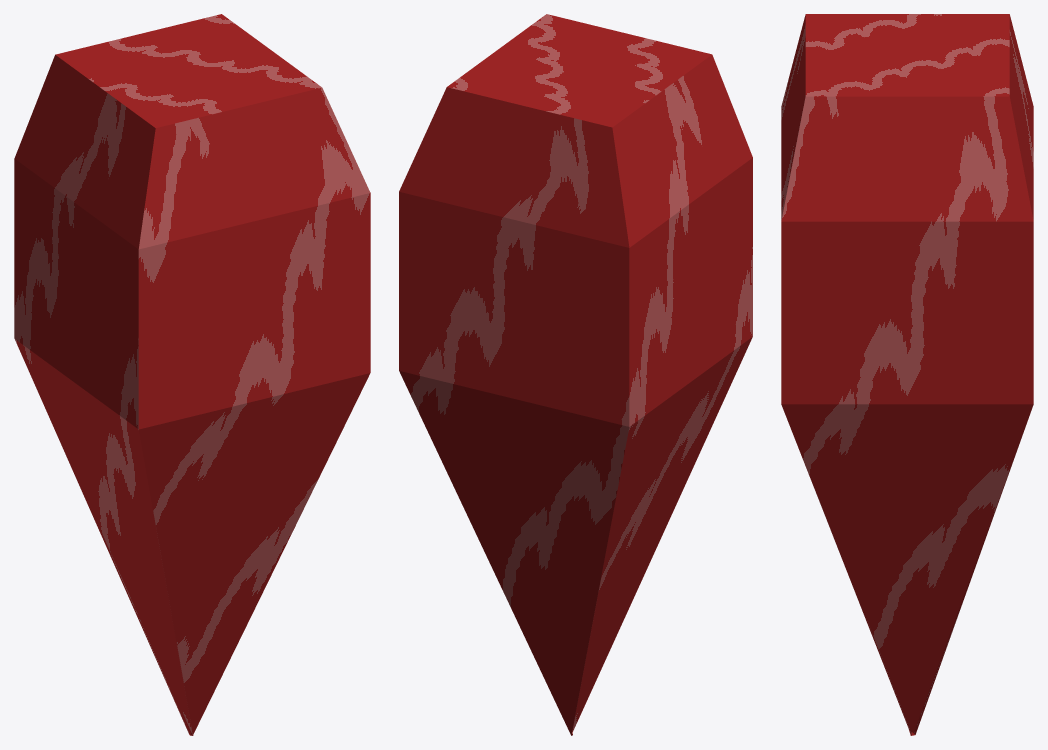
The model's file is Indicator.fbx.
3 renders of one model, left to right at view 1: azimuth 30°, elevation 25°; view 2: azimuth 150°, elevation 25°; view 3: azimuth 270°, elevation 25°, orthographic. The views are drawn at different scales.
Parts seen in each view (by area): view 1: Cube; view 2: Cube; view 3: Cube.
Part boxes in pixels (bbox=[...]): Cube: bbox=[14, 14, 370, 735]; Cube: bbox=[399, 14, 752, 735]; Cube: bbox=[781, 14, 1033, 735].
Bounding box in the file's own units: 72.7 × 200 × 67.5.
